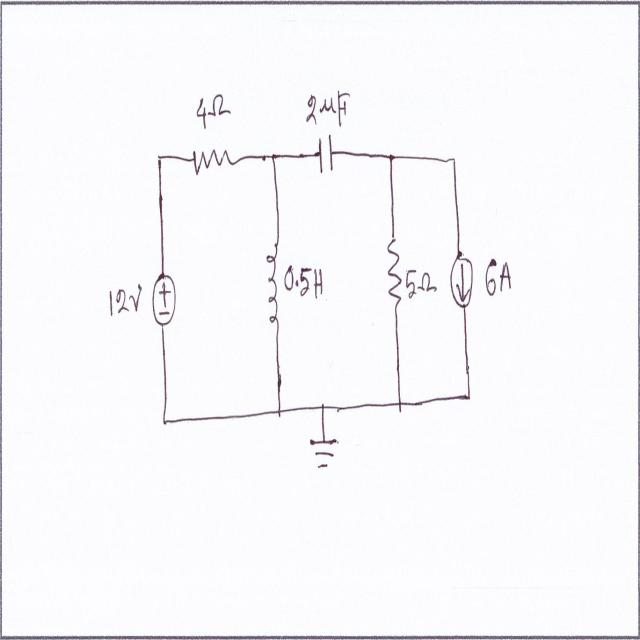capacitor: (316, 128, 335, 178)
current_source: (449, 251, 474, 310)
ground: (309, 431, 338, 480)
inductor: (265, 240, 281, 332)
resistor: (191, 144, 234, 178), (386, 236, 404, 307)
voltage_source: (152, 270, 178, 332)
